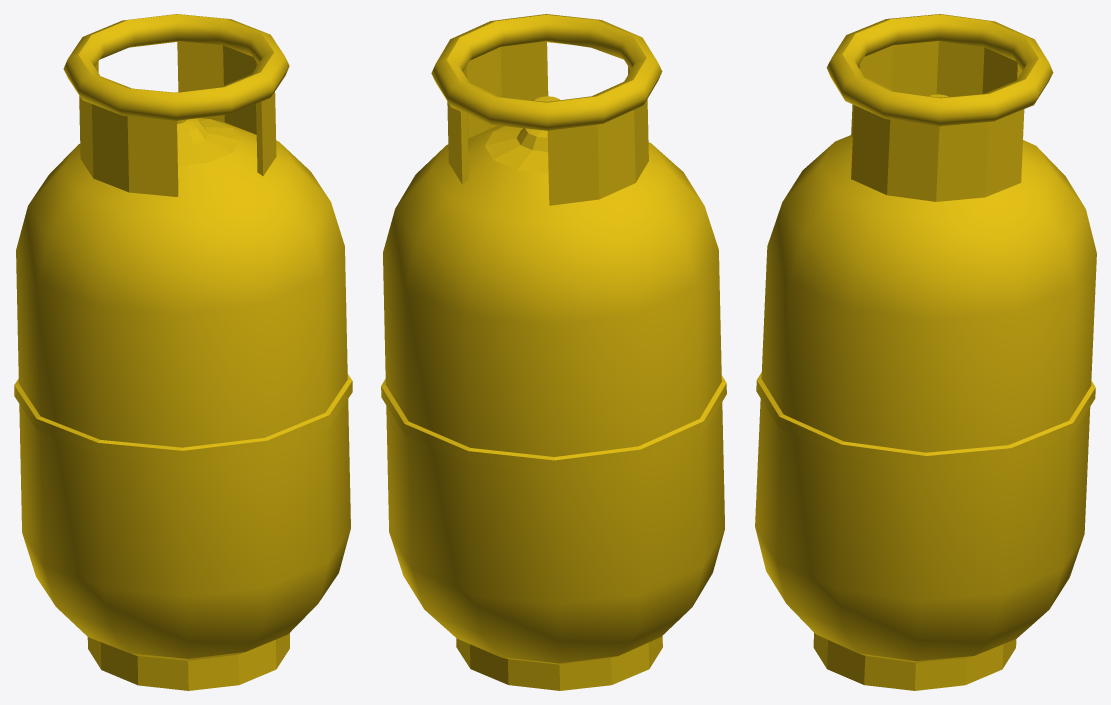
Rendered from Parts_Gas Tank_90fix.fbx.
3 renders of one model, left to right at view 1: azimuth 30°, elevation 25°; view 2: azimuth 150°, elevation 25°; view 3: azimuth 270°, elevation 25°, orthographic. The views are drawn at different scales.
Visible parts, largest first — view 1: OilTank001; view 2: OilTank001; view 3: OilTank001.
Part boxes in pixels (x1,y1,x2,y2): OilTank001: (14,14,352,690); OilTank001: (381,14,726,690); OilTank001: (755,14,1096,690).
Bounding box in the file's own units: 14.32 × 27.39 × 14.3.
